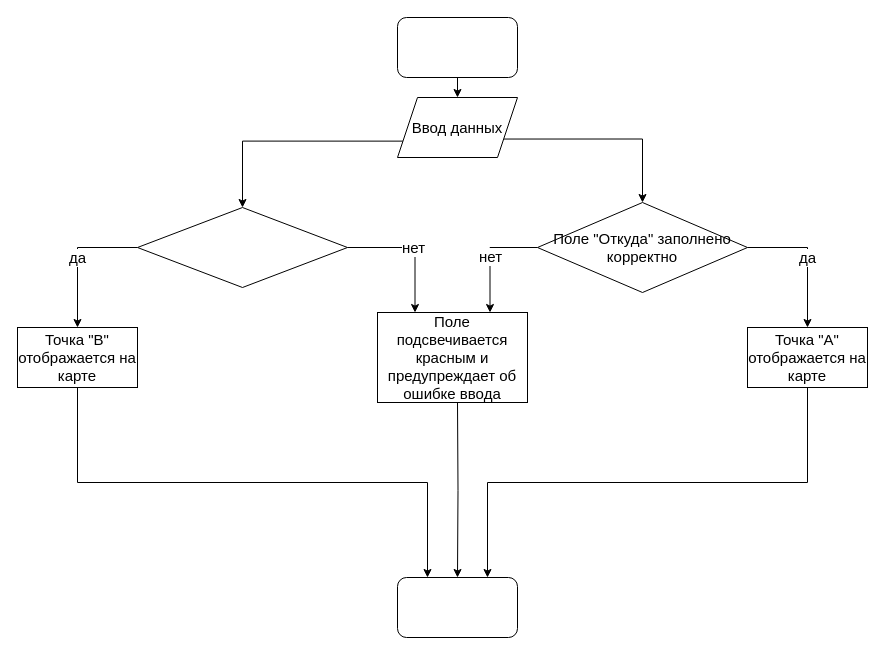
This 885x655 diagram has some shape labels left out. The centre of each missing label's shape, as x and y in pixels:
Конец: point 457,607
Начало: point 457,47
Поле "Куда" заполнено корректно: point 242,247
